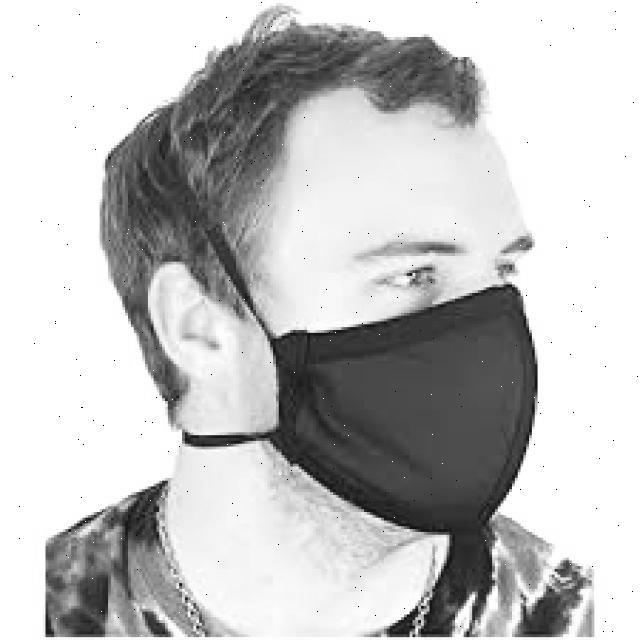fake: (204, 262, 572, 568)
real: (255, 91, 541, 544)
